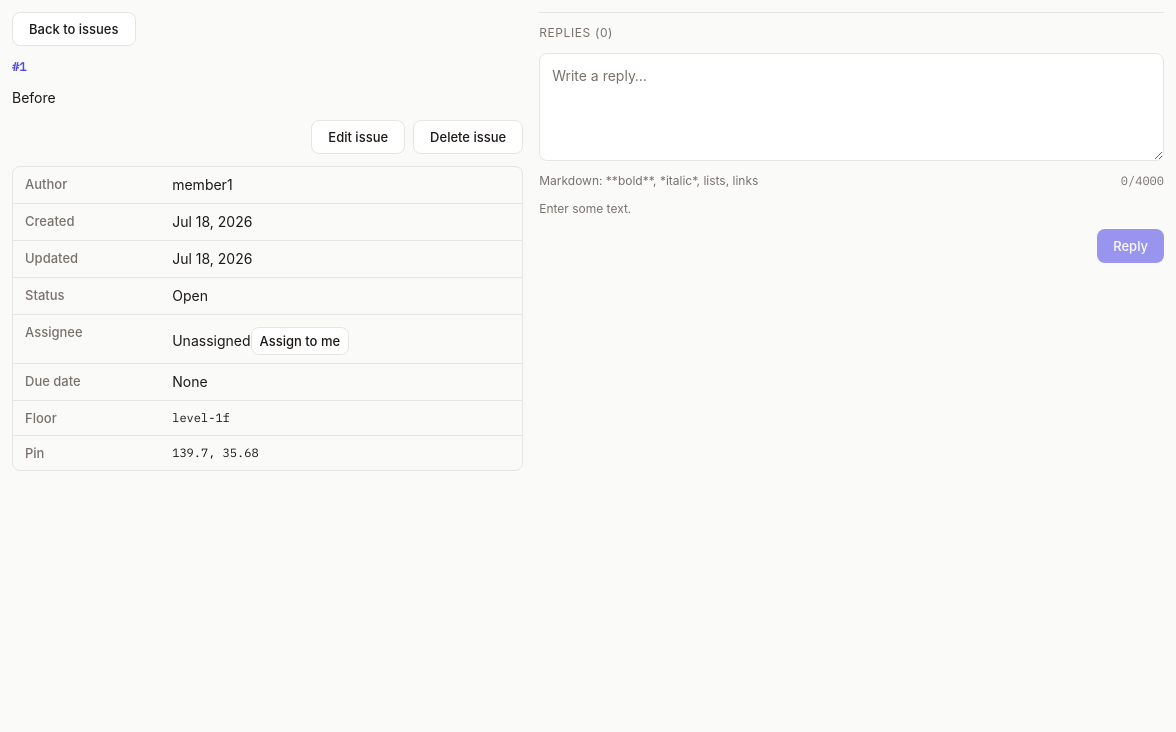
Test case: editor feedback › gives the root editor a count, hint, and empty explanation
Click the button "Edit issue": (358, 137) [311,120,405,154]
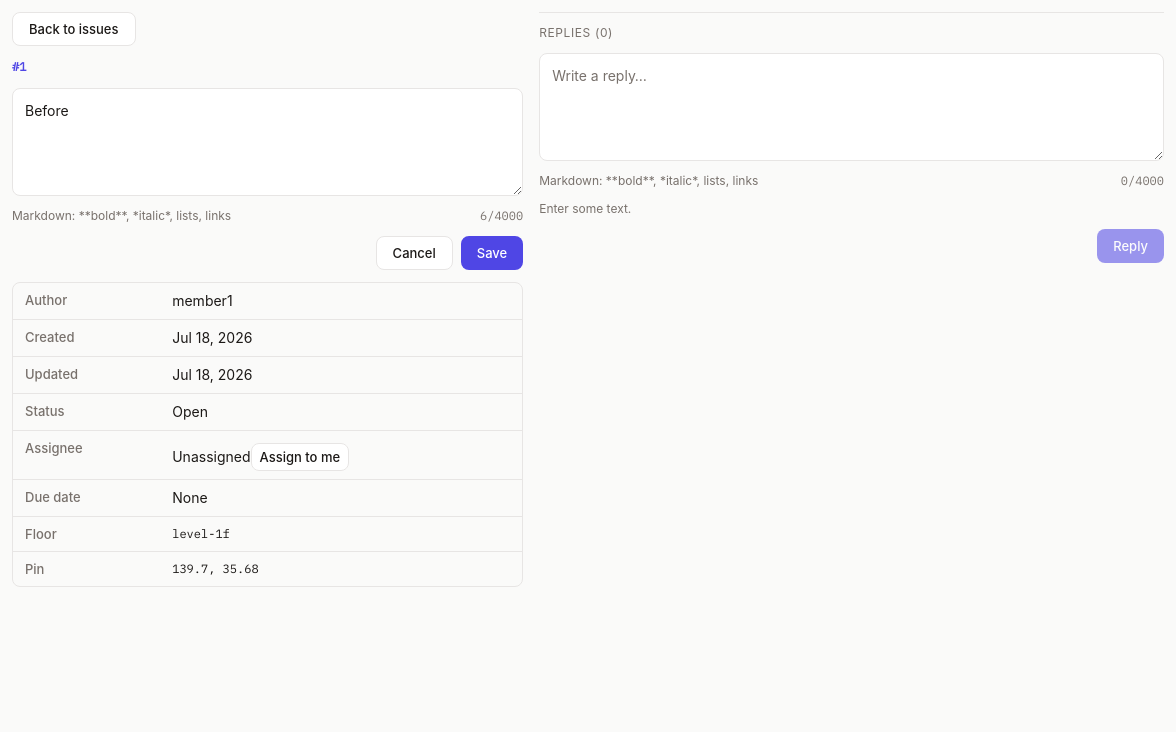
Check: the text "6/4000" is shown, box [480,208,523,224]
Check: the text "Markdown: **bold**, *italic*, lists, links" in the row of "6/4000" is shown, box [12,208,231,223]
Clear the text box named "Edit issue body": (268, 142) [12,88,523,196]
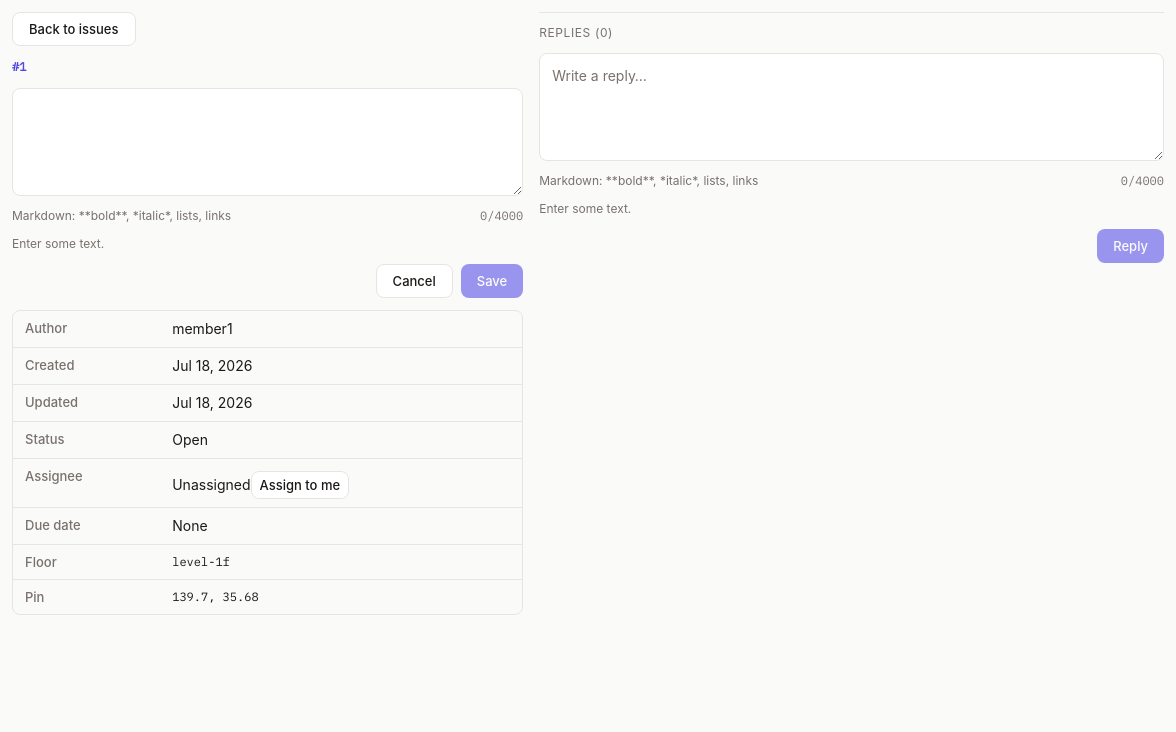
Check: the 2nd text "Enter some text." is shown, box [12,236,104,251]
Check: the button "Save" is disabled, box [461,264,523,298]
